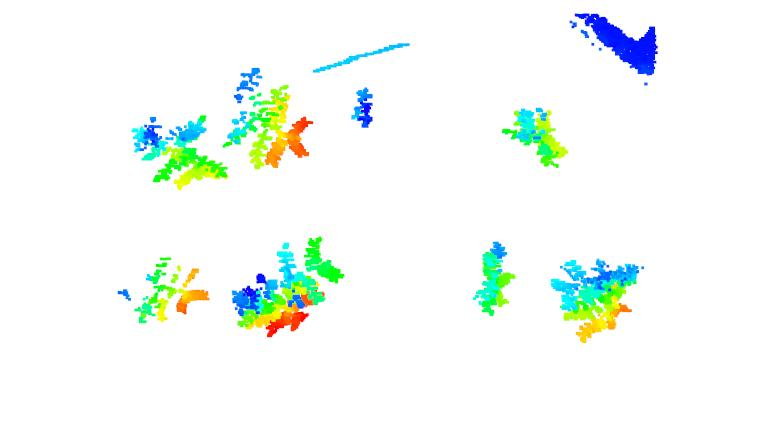chickpea: (229, 236, 342, 338), (222, 69, 310, 172), (549, 257, 643, 343), (131, 112, 227, 190), (132, 256, 211, 326), (501, 106, 570, 169), (472, 241, 514, 316), (349, 86, 376, 129)
